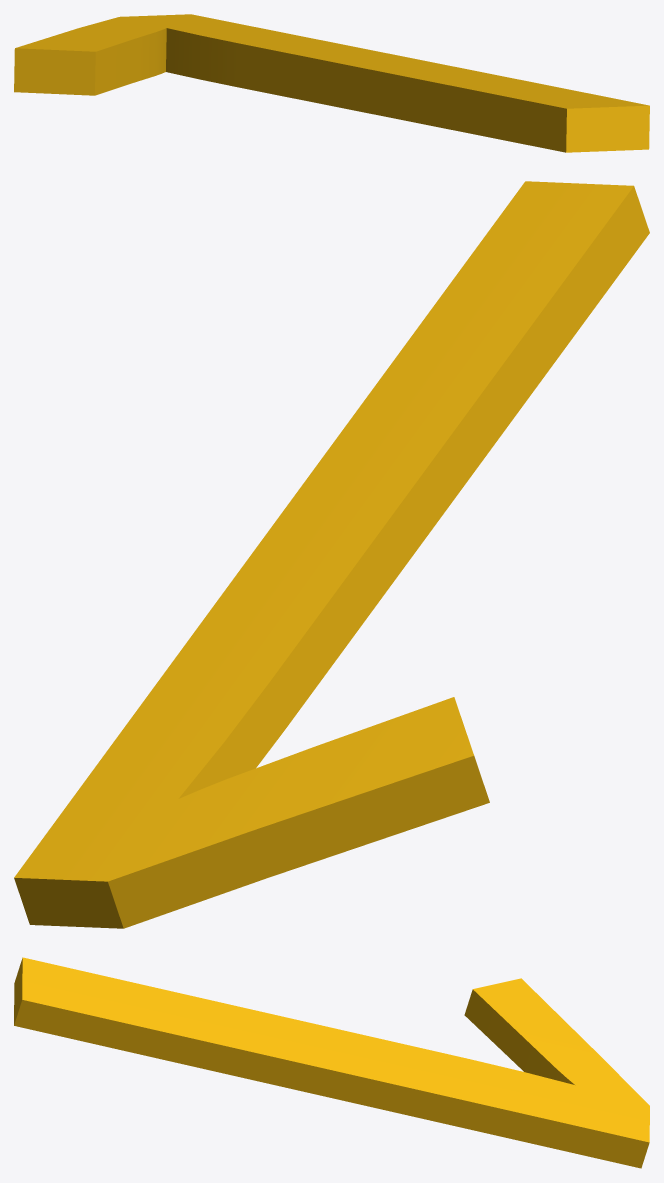
The model's file is Number_1.gltf.
3 renders of one model, top to bottom at view 1: azimuth 30°, elevation 25°; view 2: azimuth 150°, elevation 25°; view 3: azimuth 270°, elevation 25°, orthographic. The views are drawn at different scales.
Visible parts, largest first — view 1: Sub_9_Cell_2_3_Number_1; view 2: Sub_9_Cell_2_3_Number_1; view 3: Sub_9_Cell_2_3_Number_1.
Part boxes in pixels (x1,y1,x2,y2): Sub_9_Cell_2_3_Number_1: (14,14,649,152); Sub_9_Cell_2_3_Number_1: (14,181,649,928); Sub_9_Cell_2_3_Number_1: (14,957,649,1168).
Bounding box in the file's own units: 0.0101 × 0.00838 × 0.0246.
